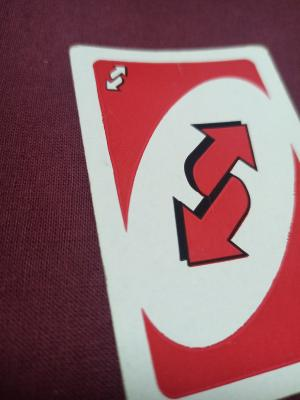reverse: (169, 112, 268, 275), (100, 53, 132, 96)
